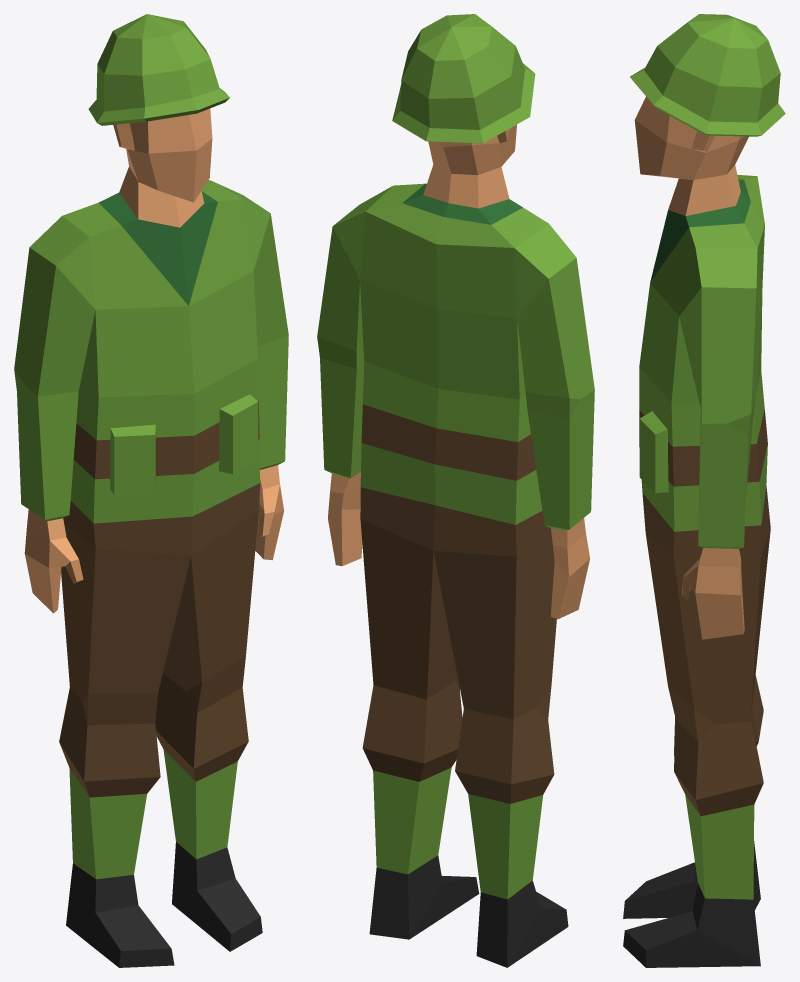
The model's file is man-soldier-us.glb.
The picture shows the model from 3 angles, left to right: view 1: azimuth 30°, elevation 25°; view 2: azimuth 150°, elevation 25°; view 3: azimuth 270°, elevation 25°; orthographic projection.
Parts seen in each view (by area): view 1: man-soldier-us; view 2: man-soldier-us; view 3: man-soldier-us.
Boxes of the visible parts, bbox=[...] form: man-soldier-us: bbox=[14, 14, 288, 967]; man-soldier-us: bbox=[317, 14, 594, 967]; man-soldier-us: bbox=[623, 14, 785, 967].
Bounding box in the file's own units: 0.5438 × 1.87 × 0.3021.
Materials: 1 (1 with a texture image).
